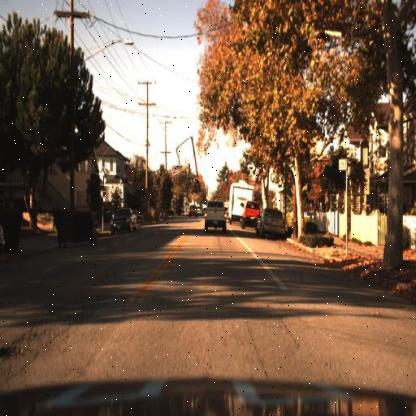car: (254, 206, 290, 240), (199, 194, 228, 234), (107, 204, 138, 238), (238, 200, 260, 230)
truck: (227, 178, 255, 226)
